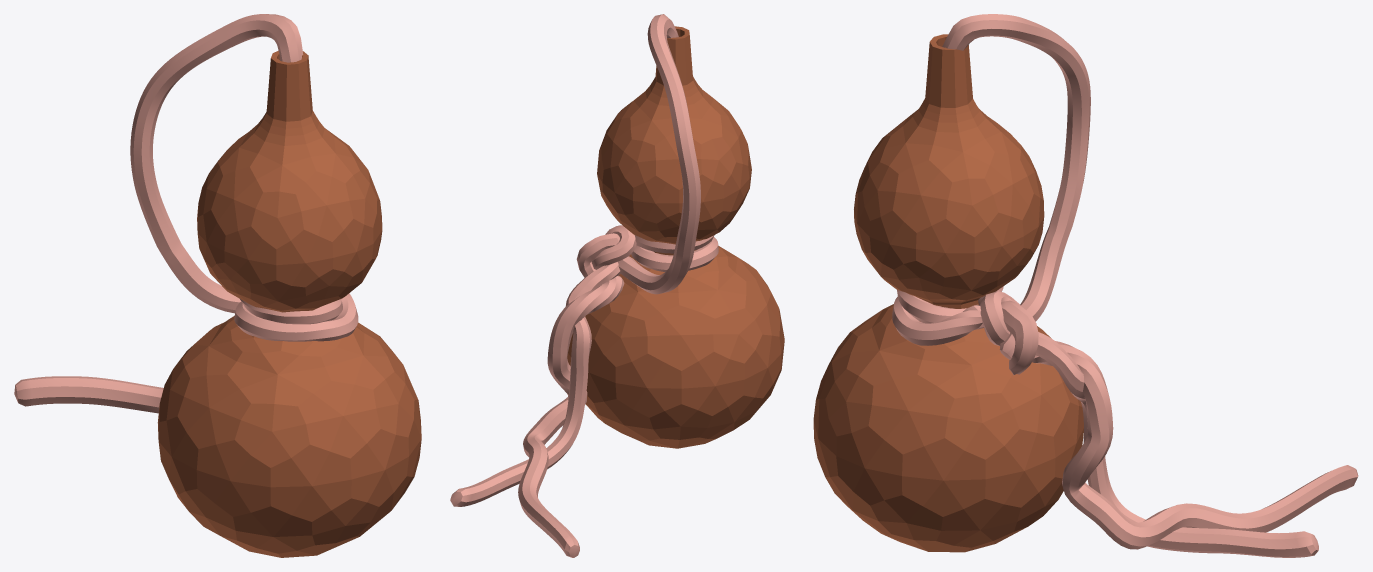
File: Waterfles_02.fbx
3 views of the same model, side by side, from view 1: azimuth 30°, elevation 25°; view 2: azimuth 150°, elevation 25°; view 3: azimuth 270°, elevation 25° (orthographic). The views are drawn at different scales.
Parts seen in each view (by area): view 1: Icosphere.001; view 2: Icosphere.001; view 3: Icosphere.001.
Boxes of the visible parts, x1,y1,x2,y2 form: Icosphere.001: [14, 14, 421, 557]; Icosphere.001: [450, 14, 784, 557]; Icosphere.001: [813, 14, 1358, 557].
Bounding box in the file's own units: 26.09 × 54.61 × 52.34.
